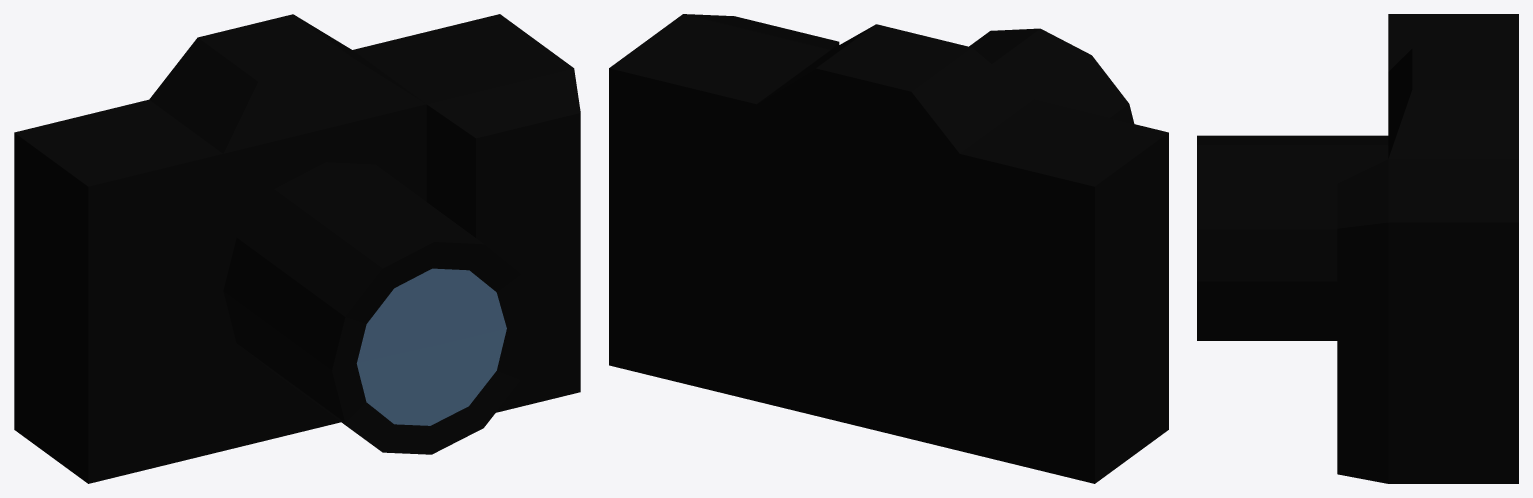
The model's file is Camera.fbx.
3 renders of one model, left to right at view 1: azimuth 30°, elevation 25°; view 2: azimuth 150°, elevation 25°; view 3: azimuth 270°, elevation 25°, orthographic. The views are drawn at different scales.
Visible parts, largest first — view 1: Camera; view 2: Camera; view 3: Camera.
Part boxes in pixels (x1,y1,x2,y2): Camera: (14, 14, 580, 483); Camera: (609, 14, 1168, 483); Camera: (1197, 14, 1518, 483).
Bounding box in the file's own units: 21.55 × 14.73 × 14.05.
